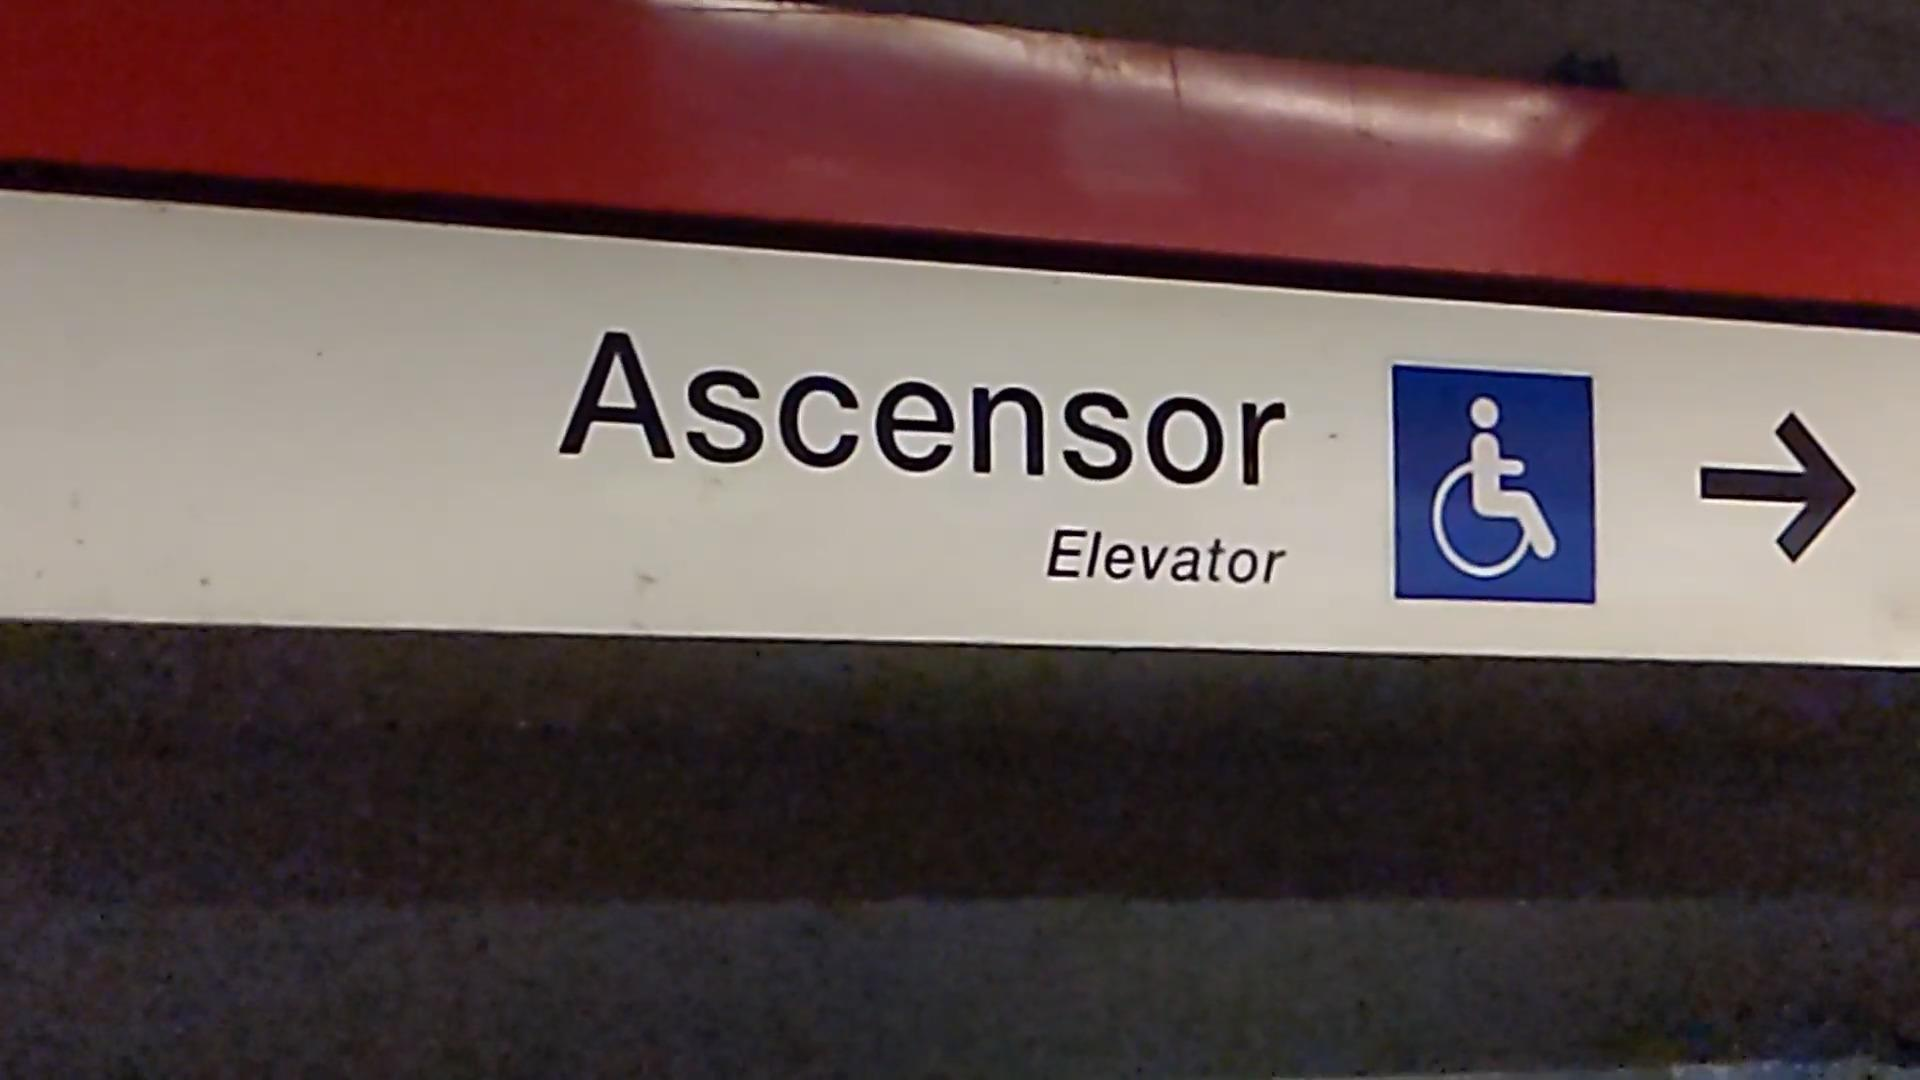handicapped symbol: (1428, 396, 1563, 580)
right arrow: (1688, 407, 1865, 572)
